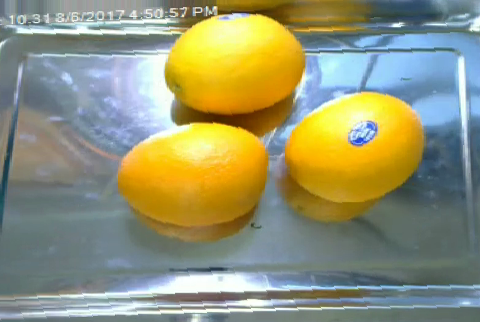Orange: (283, 91, 424, 203), (118, 121, 268, 226), (163, 11, 307, 115)
